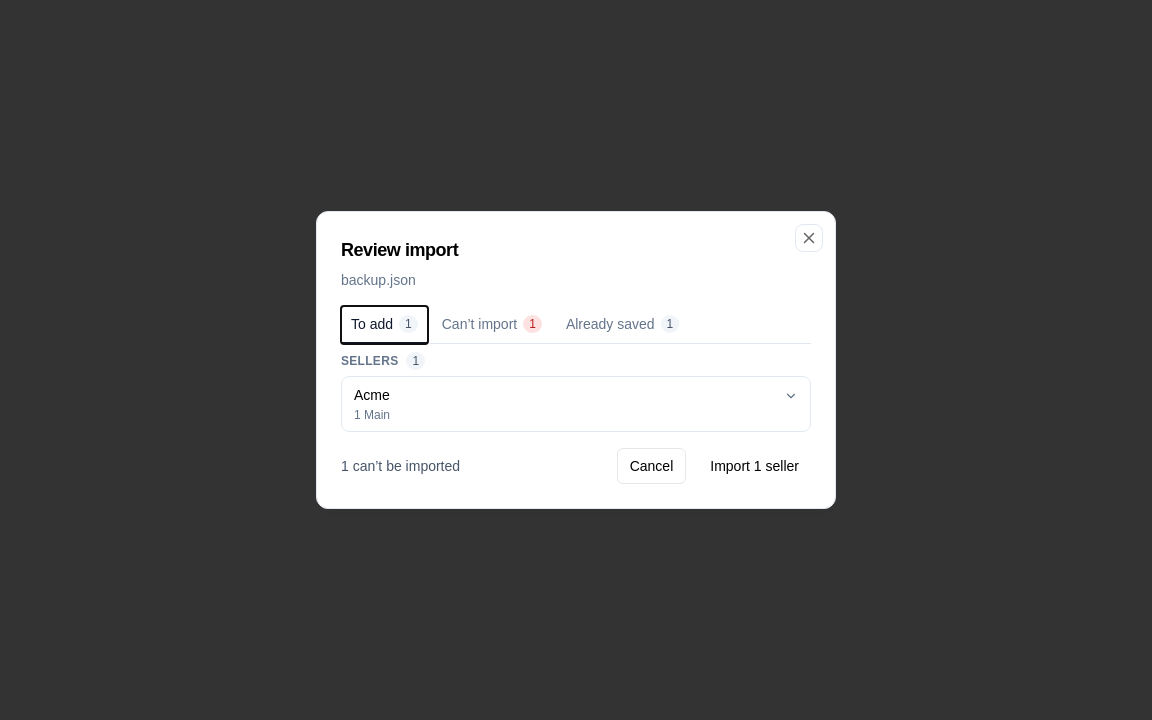
Test: ImportContactsDialog preview › lists what will be added, skipped and cannot be imported
The image size is (1152, 720).
Expected: the heading "Review import" is shown, [341,240,458,260]
Expected: the tab "To add 1" is shown, [341,306,428,344]
Click the button "1 can’t be imported".
click(401, 466)  # box [341,456,460,476]
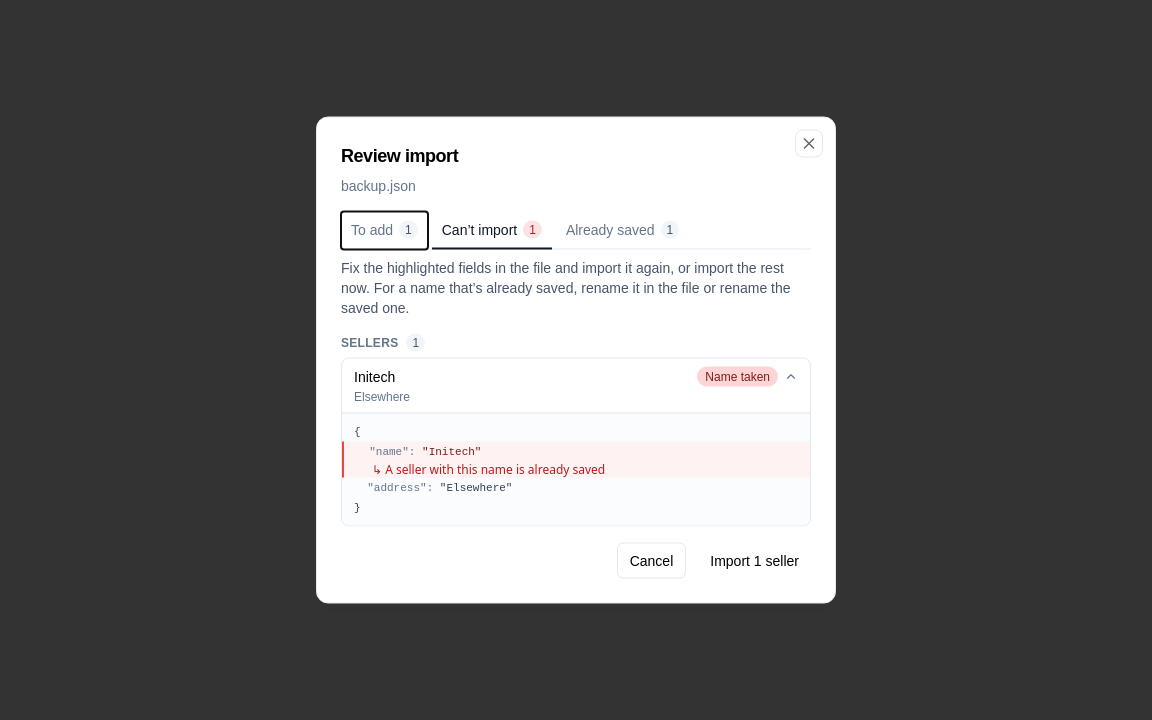
Expected: the tab "Can’t import 1" is shown, [432,212,552,250]
Now the button "1 can’t be imported" is gone
Press the mouse on the tab "Already saved 1" at (623, 230), box [556,212,689,250]
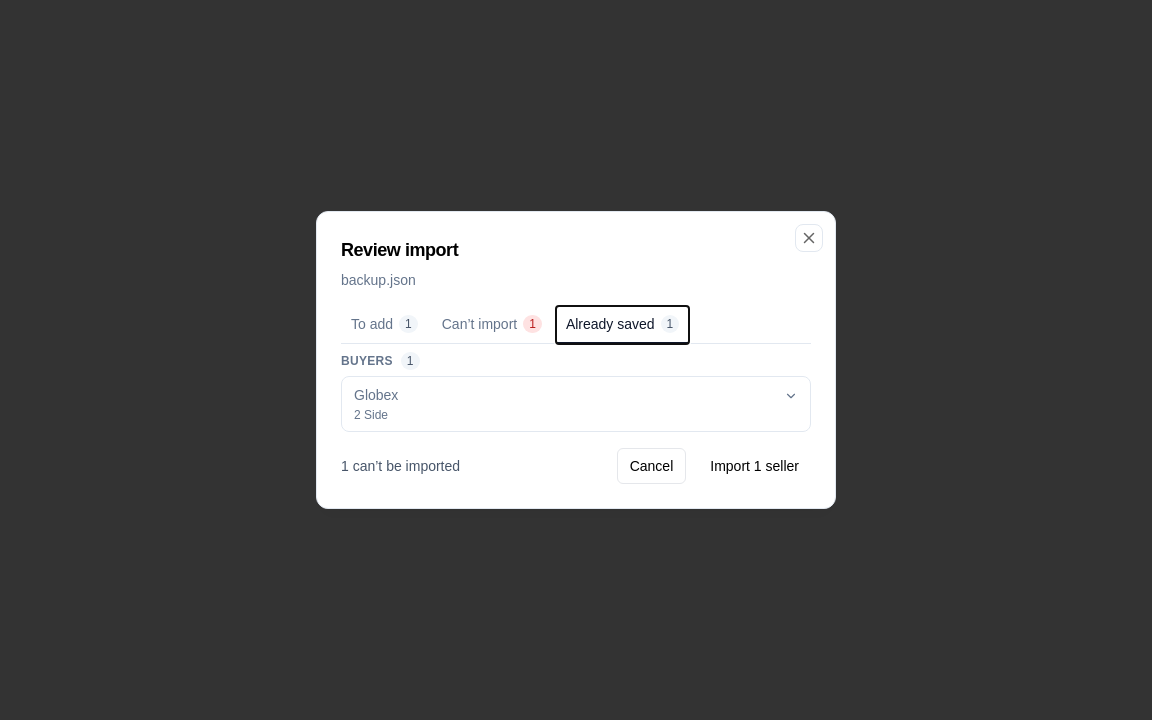
Now the list named "Buyers" reads "Globex 2 Side", box [341,376,811,432]
Now the heading "Sellers" is gone
